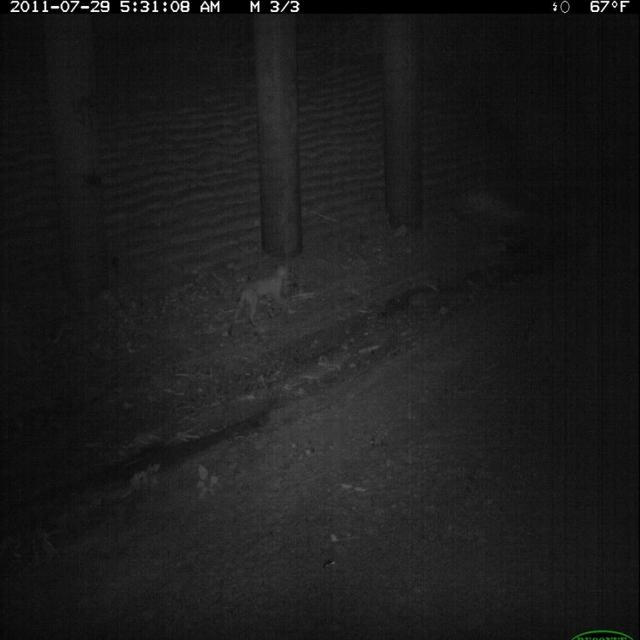bobcat: (228, 256, 296, 338)
